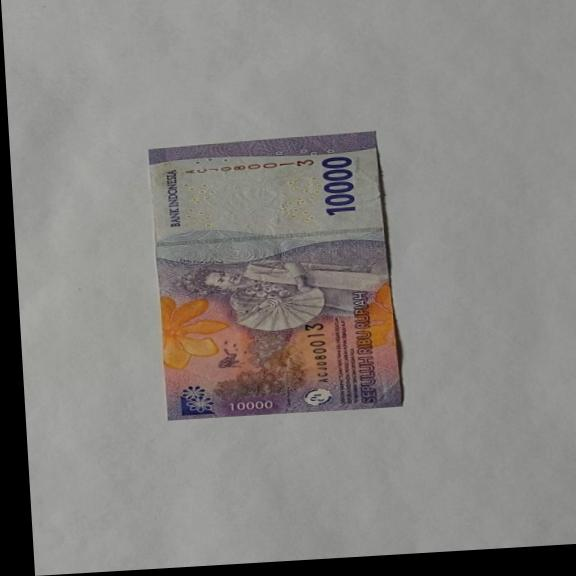Kertas: (147, 130, 405, 422), (318, 155, 359, 217)
